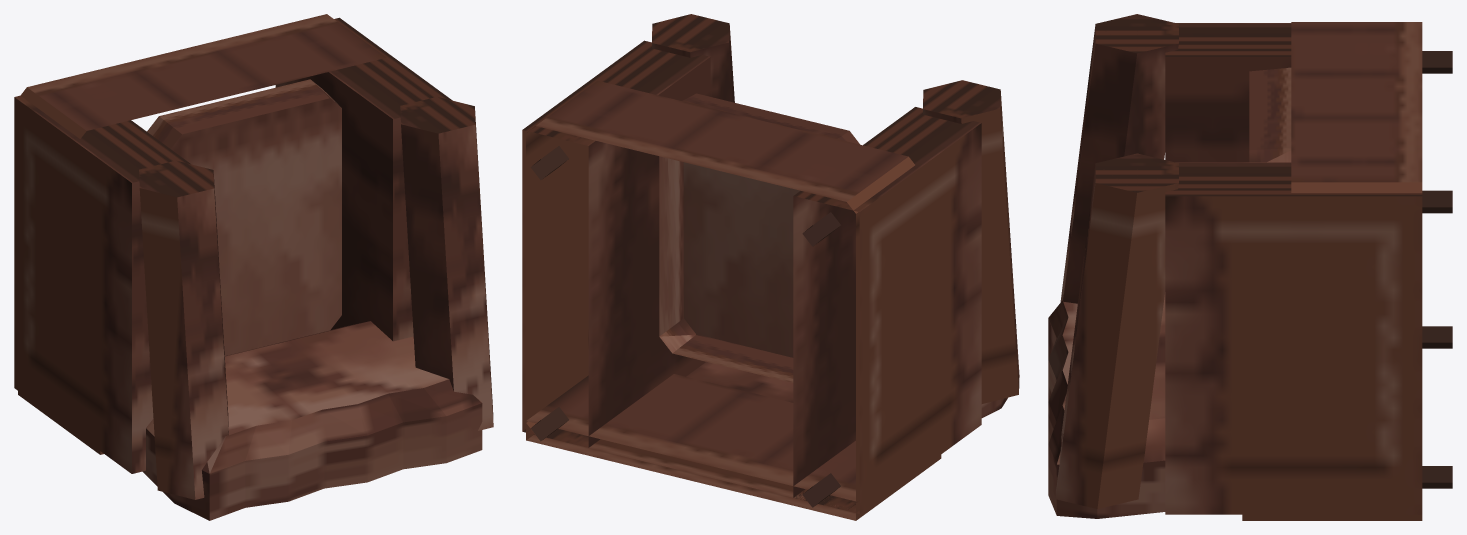
Rendered from pz_chair_seating_indoor_03_victorian_5_fidelity_r1.obj.
The picture shows the model from 3 angles, left to right: view 1: azimuth 30°, elevation 25°; view 2: azimuth 150°, elevation 25°; view 3: azimuth 270°, elevation 25°; orthographic projection. The views are drawn at different scales.
Parts seen in each view (by area): view 1: pz_chair_seating_indoor_03_victorian_5__chester_side_-1__arm, pz_chair_seating_indoor_03_victorian_5__sculpted_back__back, pz_chair_seating_indoor_03_victorian_5__seat_0__seat, pz_chair_seating_indoor_03_victorian_5__chester_roll_-1__arm, pz_chair_seating_indoor_03_victorian_5__chester_roll_1__arm, pz_chair_seating_indoor_03_victorian_5__chester_side_1__arm, pz_chair_seating_indoor_03_victorian_5__lower_body__body; view 2: pz_chair_seating_indoor_03_victorian_5__chester_side_-1__arm, pz_chair_seating_indoor_03_victorian_5__lower_body__body, pz_chair_seating_indoor_03_victorian_5__seat_0__seat, pz_chair_seating_indoor_03_victorian_5__chester_side_1__arm, pz_chair_seating_indoor_03_victorian_5__rear_body_bridge__body, pz_chair_seating_indoor_03_victorian_5__chester_roll_-1__arm, pz_chair_seating_indoor_03_victorian_5__chester_roll_1__arm, pz_chair_seating_indoor_03_victorian_5__sculpted_back__back, pz_chair_seating_indoor_03_victorian_5__foot_1_1__frame, pz_chair_seating_indoor_03_victorian_5__foot_-1_-1__frame, pz_chair_seating_indoor_03_victorian_5__foot_-1_1__frame, pz_chair_seating_indoor_03_victorian_5__foot_1_-1__frame; view 3: pz_chair_seating_indoor_03_victorian_5__chester_side_1__arm, pz_chair_seating_indoor_03_victorian_5__chester_roll_1__arm, pz_chair_seating_indoor_03_victorian_5__lower_body__body, pz_chair_seating_indoor_03_victorian_5__chester_roll_-1__arm, pz_chair_seating_indoor_03_victorian_5__chester_side_-1__arm, pz_chair_seating_indoor_03_victorian_5__sculpted_back__back, pz_chair_seating_indoor_03_victorian_5__seat_0__seat, pz_chair_seating_indoor_03_victorian_5__rear_body_bridge__body, pz_chair_seating_indoor_03_victorian_5__foot_1_1__frame, pz_chair_seating_indoor_03_victorian_5__foot_-1_-1__frame, pz_chair_seating_indoor_03_victorian_5__foot_-1_1__frame, pz_chair_seating_indoor_03_victorian_5__foot_1_-1__frame.
Boxes of the visible parts, left/top/right/bottom form: pz_chair_seating_indoor_03_victorian_5__chester_side_-1__arm: left=14, top=95, right=190, bottom=473; pz_chair_seating_indoor_03_victorian_5__sculpted_back__back: left=142, top=321, right=482, bottom=520; pz_chair_seating_indoor_03_victorian_5__seat_0__seat: left=147, top=79, right=341, bottom=355; pz_chair_seating_indoor_03_victorian_5__chester_roll_-1__arm: left=139, top=160, right=228, bottom=499; pz_chair_seating_indoor_03_victorian_5__chester_roll_1__arm: left=400, top=97, right=493, bottom=430; pz_chair_seating_indoor_03_victorian_5__chester_side_1__arm: left=275, top=17, right=452, bottom=341; pz_chair_seating_indoor_03_victorian_5__lower_body__body: left=20, top=14, right=390, bottom=138; pz_chair_seating_indoor_03_victorian_5__chester_side_-1__arm: left=793, top=107, right=981, bottom=513; pz_chair_seating_indoor_03_victorian_5__lower_body__body: left=526, top=80, right=914, bottom=509; pz_chair_seating_indoor_03_victorian_5__seat_0__seat: left=659, top=93, right=859, bottom=382; pz_chair_seating_indoor_03_victorian_5__chester_side_1__arm: left=522, top=40, right=710, bottom=447; pz_chair_seating_indoor_03_victorian_5__rear_body_bridge__body: left=526, top=374, right=941, bottom=520; pz_chair_seating_indoor_03_victorian_5__chester_roll_-1__arm: left=923, top=80, right=1019, bottom=403; pz_chair_seating_indoor_03_victorian_5__chester_roll_1__arm: left=651, top=14, right=734, bottom=102; pz_chair_seating_indoor_03_victorian_5__sculpted_back__back: left=686, top=334, right=1007, bottom=417; pz_chair_seating_indoor_03_victorian_5__foot_1_1__frame: left=530, top=146, right=568, bottom=180; pz_chair_seating_indoor_03_victorian_5__foot_-1_-1__frame: left=802, top=473, right=840, bottom=507; pz_chair_seating_indoor_03_victorian_5__foot_-1_1__frame: left=802, top=212, right=840, bottom=246; pz_chair_seating_indoor_03_victorian_5__foot_1_-1__frame: left=530, top=407, right=568, bottom=441; pz_chair_seating_indoor_03_victorian_5__chester_side_1__arm: left=1165, top=162, right=1422, bottom=514; pz_chair_seating_indoor_03_victorian_5__chester_roll_1__arm: left=1055, top=153, right=1178, bottom=508; pz_chair_seating_indoor_03_victorian_5__lower_body__body: left=1291, top=22, right=1422, bottom=192; pz_chair_seating_indoor_03_victorian_5__chester_roll_-1__arm: left=1060, top=14, right=1178, bottom=303; pz_chair_seating_indoor_03_victorian_5__chester_side_-1__arm: left=1165, top=23, right=1291, bottom=162; pz_chair_seating_indoor_03_victorian_5__sculpted_back__back: left=1048, top=292, right=1165, bottom=518; pz_chair_seating_indoor_03_victorian_5__seat_0__seat: left=1249, top=67, right=1291, bottom=162; pz_chair_seating_indoor_03_victorian_5__rear_body_bridge__body: left=1242, top=514, right=1422, bottom=520; pz_chair_seating_indoor_03_victorian_5__foot_1_1__frame: left=1422, top=190, right=1452, bottom=213; pz_chair_seating_indoor_03_victorian_5__foot_-1_-1__frame: left=1422, top=326, right=1452, bottom=348; pz_chair_seating_indoor_03_victorian_5__foot_-1_1__frame: left=1422, top=51, right=1452, bottom=73; pz_chair_seating_indoor_03_victorian_5__foot_1_-1__frame: left=1422, top=466, right=1452, bottom=488.
Bounding box in the file's own units: 0.9795 × 0.8699 × 0.9353.
1 material, 1 textured.
